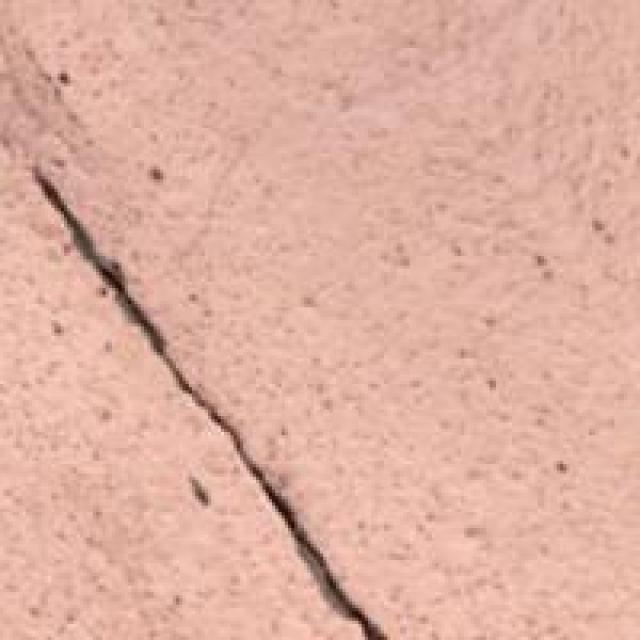Crack: (32, 163, 406, 637)
